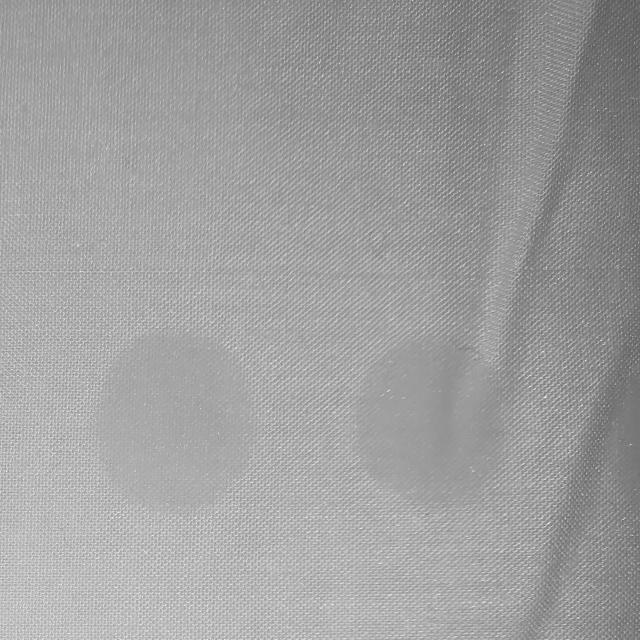Stain: (97, 334, 255, 511), (357, 338, 503, 505), (607, 374, 640, 509)
